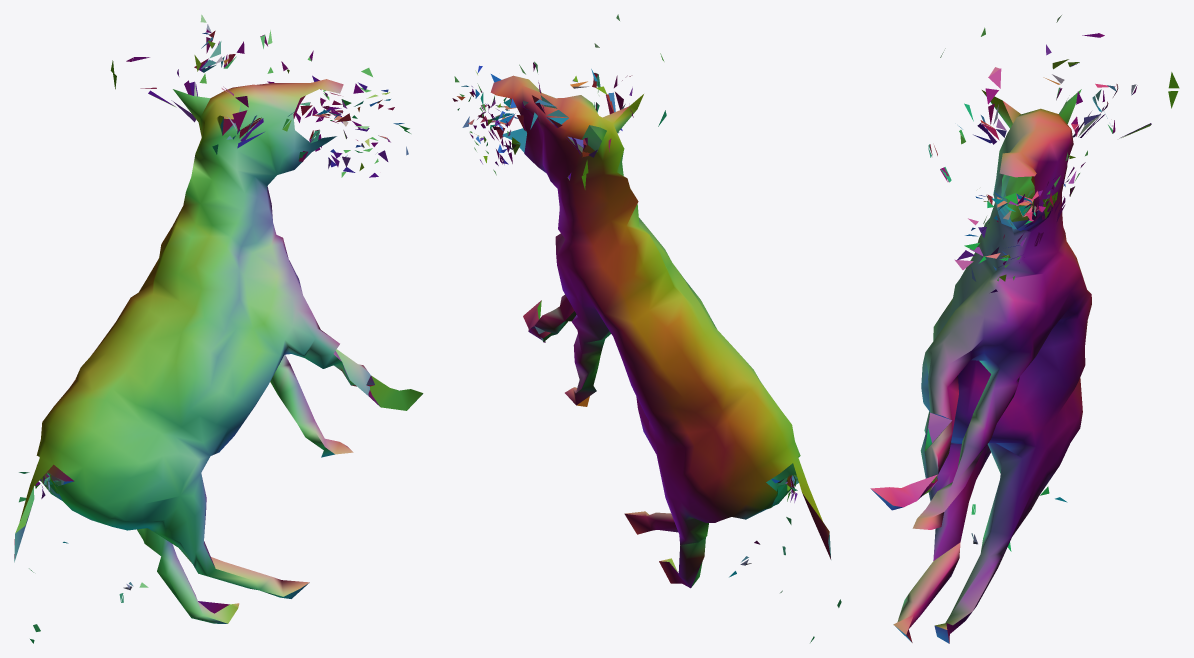
The model's file is zeometry-fragments-ruins-shattered-deer_v1.fbx.
3 renders of one model, left to right at view 1: azimuth 30°, elevation 25°; view 2: azimuth 150°, elevation 25°; view 3: azimuth 270°, elevation 25°, orthographic. The views are drawn at different scales.
Visible parts, largest first — view 1: Shattered Deer; view 2: Shattered Deer; view 3: Shattered Deer.
Part boxes in pixels (left/top/right/bottom): Shattered Deer: left=14, top=14, right=423, bottom=643; Shattered Deer: left=452, top=14, right=841, bottom=642; Shattered Deer: left=870, top=15, right=1179, bottom=643.
Size of the model in its own units: 0.3546 by 0.5 by 0.2175.
